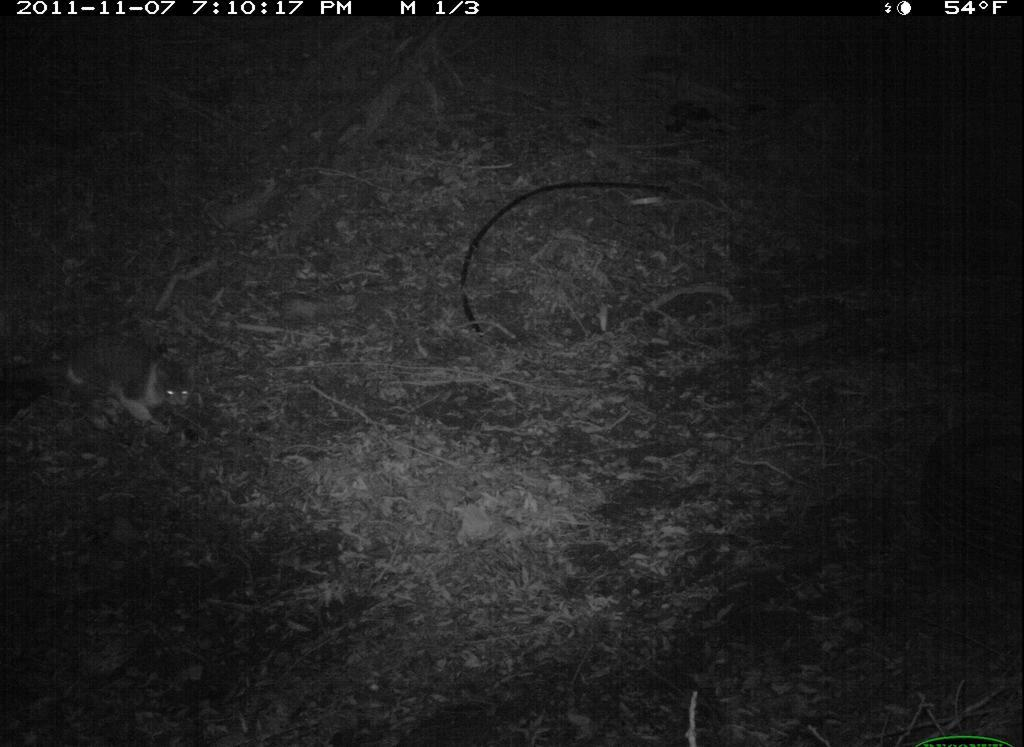cat: (36, 323, 201, 449)
